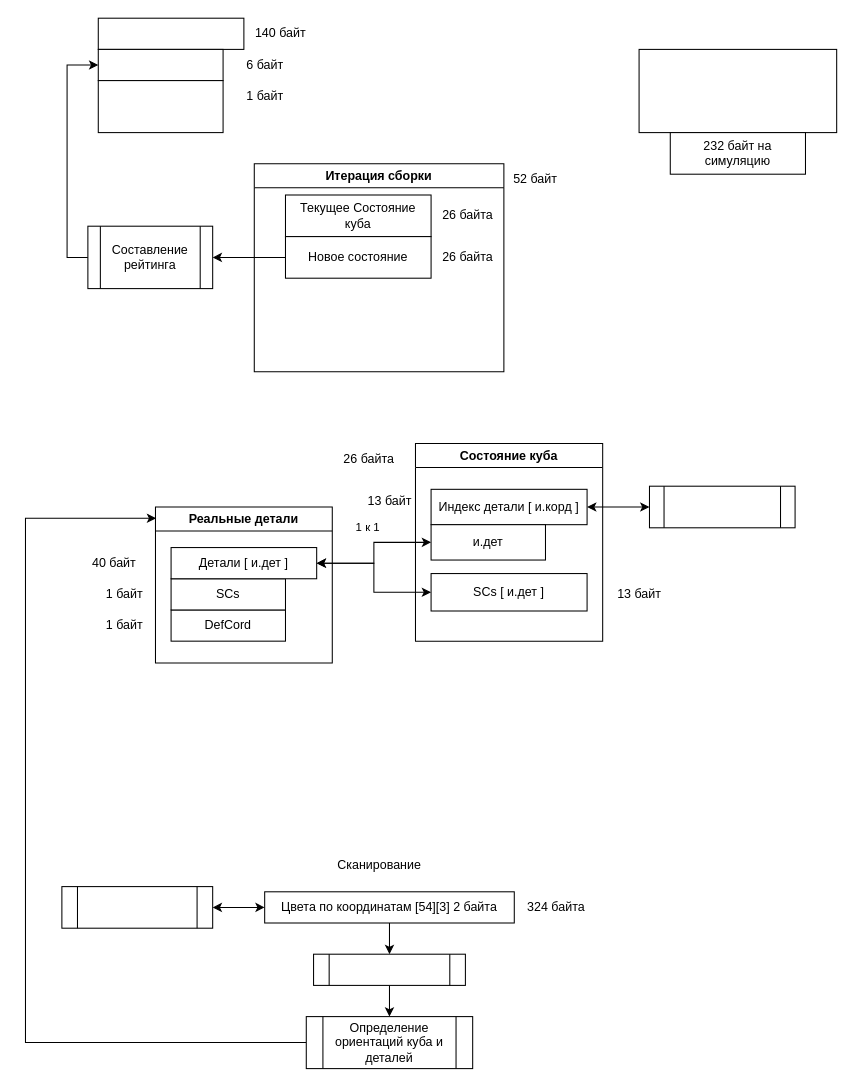
Image size: 855x1087. Some labels were removed from this diagram. Here are the shapes that lost their labels. From the top down, the centre of each, then its label:
At (170,33): "Путь [20]".
At (160,64): "Рейтинг след операций [15]".
At (160,106): "Пред операция + пройденные этапы".
At (737,90): "Реальные детали 40 байт Путь 140 байт Временные состояния 52 байт".
At (721,506): "Индекс по координатам куба".
At (137,907): "Индекс по координатам".
At (389,969): "Выделение 6 основных цветов".
